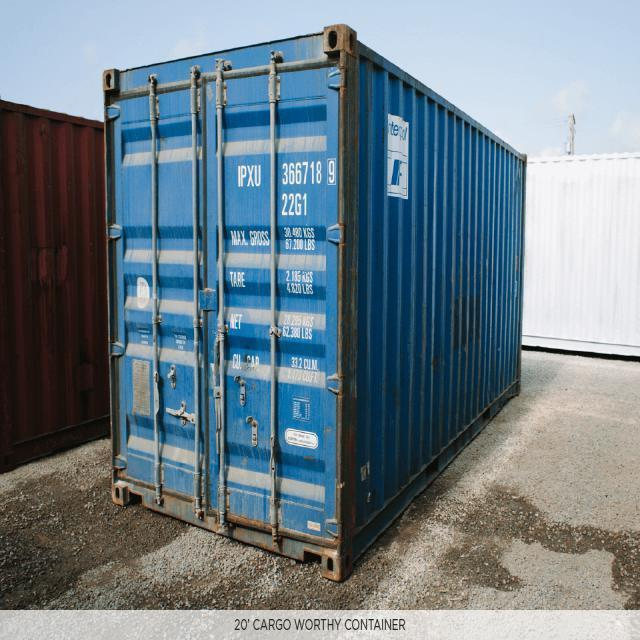ISO: (282, 194, 310, 218)
container_number: (235, 161, 332, 188)
